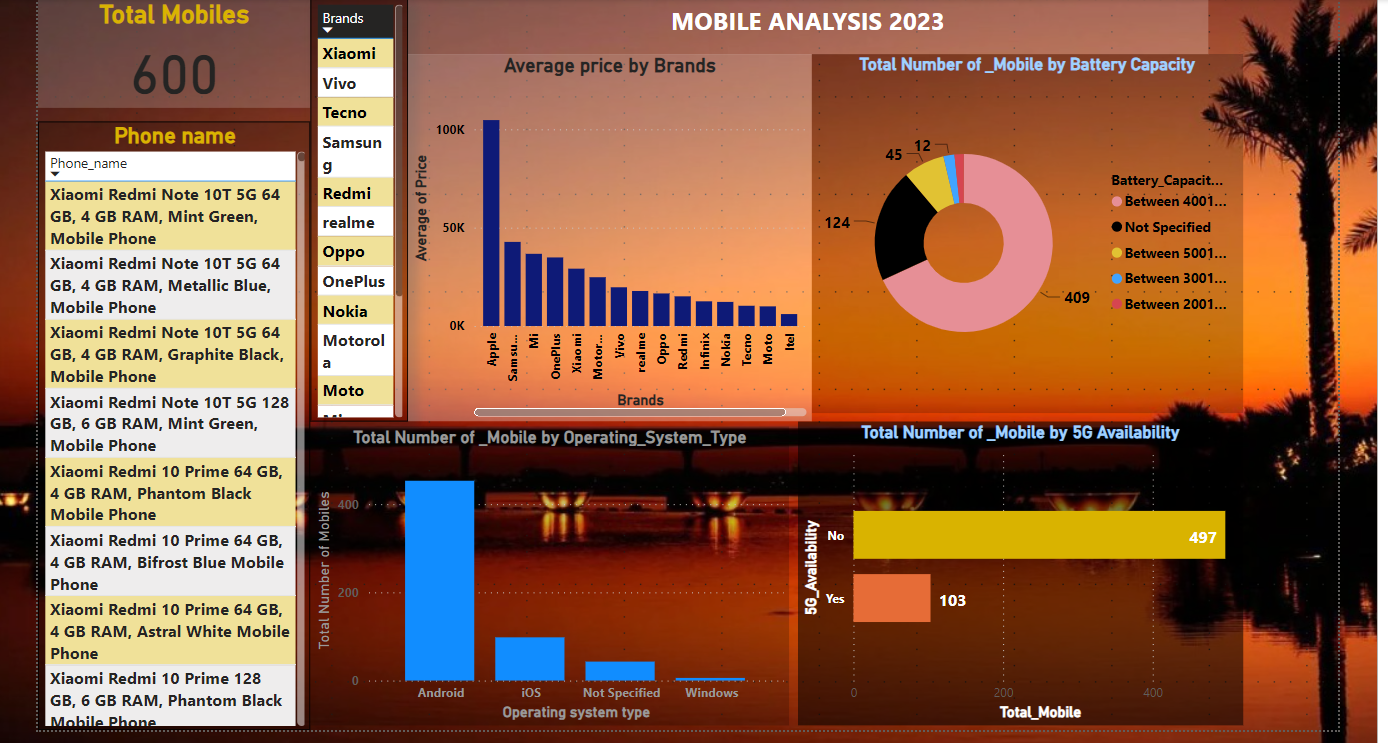

This screenshot's page, from the dashboard's own definition file:
{"tool":"powerbi","page":{"name":"Page 1","canvas":[1280,720],"ordinal":0},"visuals":[{"type":"card","title":"Total Mobiles","fields":{"Values":["Sum(Mobile Analysis.Total_Mobile)"]},"box":[0,0,268.3,107.1],"z":0},{"type":"tableEx","title":"Phone name","fields":{"Values":["Mobile Analysis.Phone_name"]},"box":[0,120.6,268.3,599.4],"z":1},{"type":"tableEx","fields":{"Values":["Mobile Analysis.Brands"]},"box":[268.3,0,96,416],"z":2},{"type":"columnChart","title":" Total Number of _Mobile by Operating_System_Type","fields":{"Category":["Mobile Analysis.Operating_System_Type"],"Y":["Sum(Mobile Analysis.Total_Mobile)"]},"box":[268.3,420.9,471.4,294.2],"z":3},{"type":"donutChart","title":" Total Number of _Mobile by Battery Capacity","fields":{"Category":["Mobile Analysis.Battery_Capacity_Range"],"Y":["Sum(Mobile Analysis.Total_Mobile)"]},"box":[761.8,54.2,424.6,353.2],"z":4},{"type":"barChart","title":" Total Number of _Mobile by 5G Availability","fields":{"Category":["Mobile Analysis.5G_Availability"],"Y":["Sum(Mobile Analysis.Total_Mobile)"]},"box":[748.3,416,438.2,299.1],"z":5},{"type":"columnChart","title":"Average price  by Brands","fields":{"Y":["Avg(Mobile Analysis.Price)"],"Category":["Mobile Analysis.Brands"]},"box":[364.3,54.2,397.5,361.8],"z":6},{"type":"textbox","box":[364.3,0,787.7,54.2],"z":7}]}

Visuals, with their boxes in screenshot pixels (x1, y1, x2, y2):
"Total Mobiles" card: pyautogui.locateOnScreen(40, 14, 304, 120)
"Phone name" tableEx: pyautogui.locateOnScreen(40, 133, 304, 723)
tableEx - Mobile Analysis.Brands: pyautogui.locateOnScreen(304, 14, 398, 424)
" Total Number of _Mobile by Operating_System_Type" columnChart: pyautogui.locateOnScreen(304, 429, 767, 718)
" Total Number of _Mobile by Battery Capacity" donutChart: pyautogui.locateOnScreen(789, 68, 1207, 415)
" Total Number of _Mobile by 5G Availability" barChart: pyautogui.locateOnScreen(776, 424, 1207, 718)
"Average price  by Brands" columnChart: pyautogui.locateOnScreen(398, 68, 789, 424)
textbox: pyautogui.locateOnScreen(398, 14, 1173, 68)
